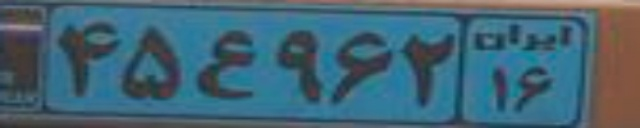1: (485, 65, 509, 111)
2: (398, 31, 457, 108)
4: (58, 22, 123, 99)
5: (123, 25, 179, 101)
6: (333, 30, 394, 103), (514, 66, 553, 111)
9: (275, 30, 323, 102)
ain: (196, 29, 261, 100)
